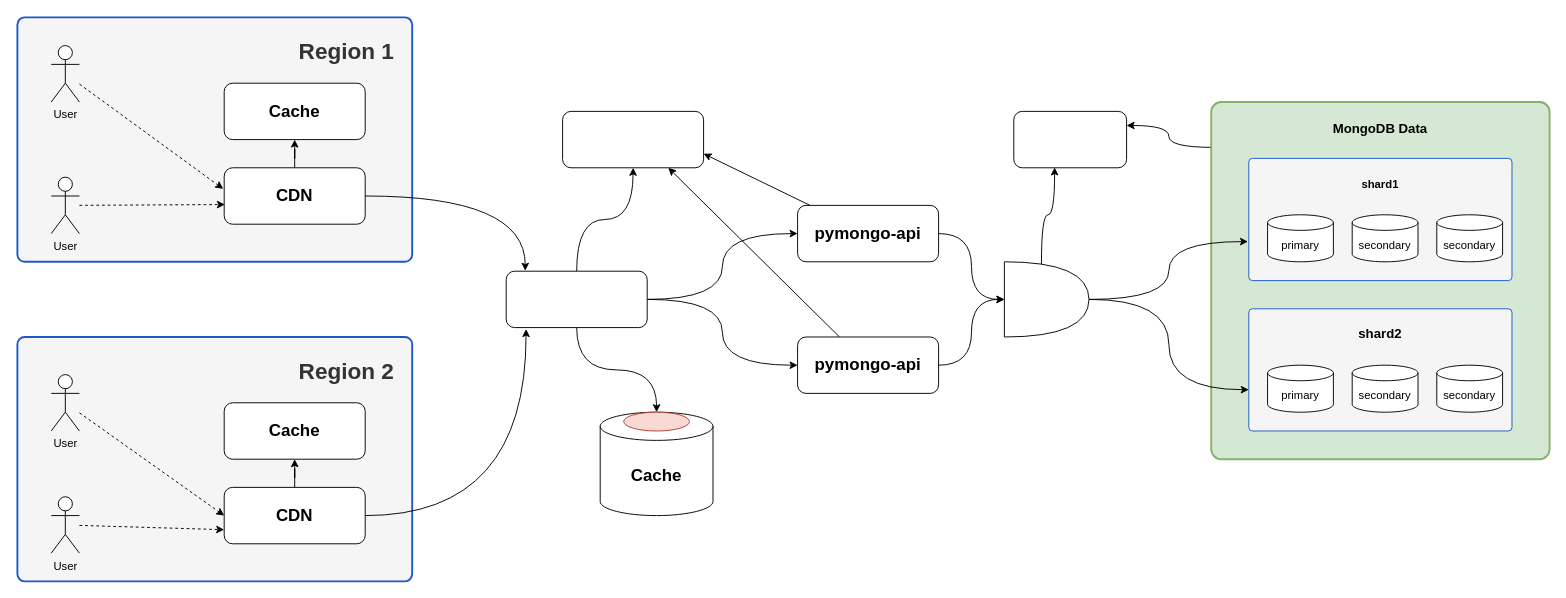
Image size: 1566x598. Some labels were removed from this diagram. Here are the shapes that lost their labels. From the top down, the box of each, then its label:
(562, 110, 704, 168): Consul
(1013, 110, 1127, 168): configSrv
(505, 270, 647, 328): Gateway
(1003, 261, 1089, 337): Mongos Router
(623, 411, 689, 431): Redis
